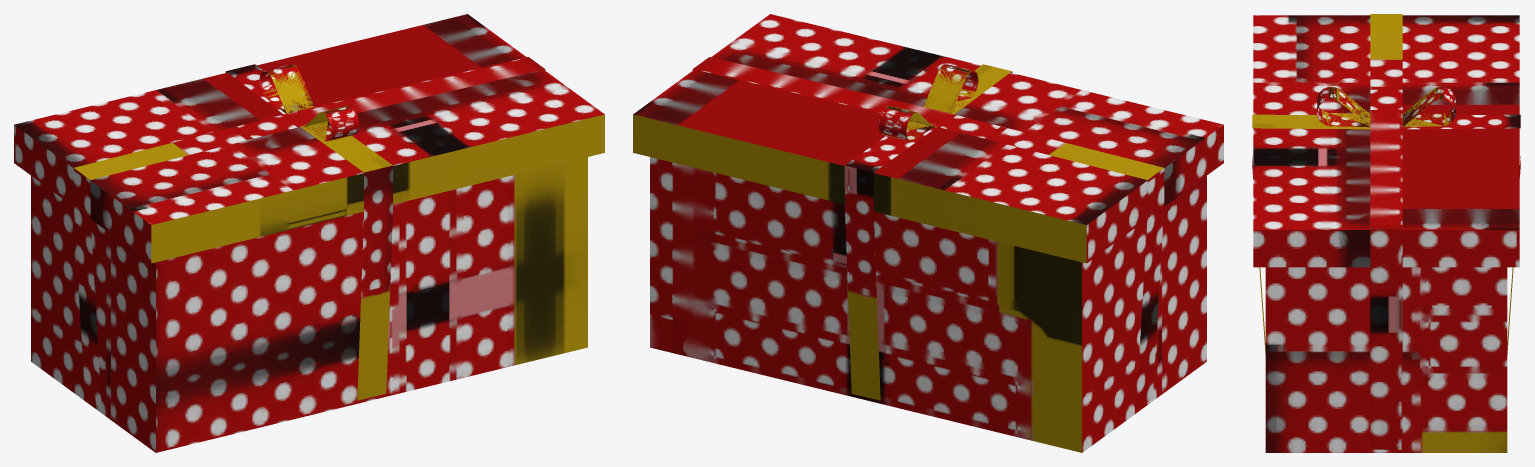
File: present_1x2x1.dae
3 views of the same model, side by side, from view 1: azimuth 30°, elevation 25°; view 2: azimuth 150°, elevation 25°; view 3: azimuth 270°, elevation 25° (orthographic). The views are drawn at different scales.
Visible parts, largest first — view 1: present_1x2x1_a20; view 2: present_1x2x1_a20; view 3: present_1x2x1_a20.
Part boxes in pixels (left/top/right/bottom): present_1x2x1_a20: left=14, top=14, right=604, bottom=452; present_1x2x1_a20: left=633, top=14, right=1223, bottom=452; present_1x2x1_a20: left=1252, top=14, right=1520, bottom=452.
Bounding box in the file's own units: 1.05 × 0.5546 × 0.5866.
